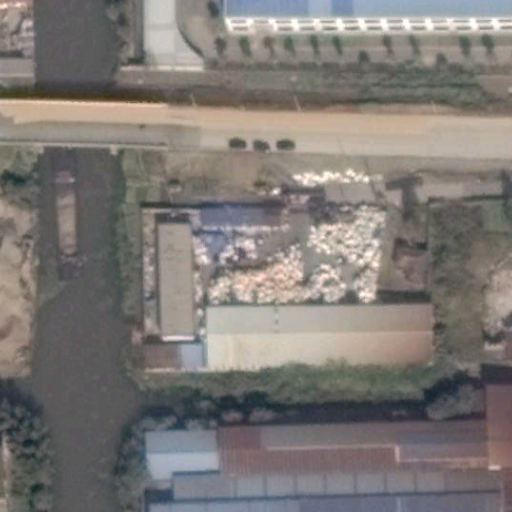msw: (197, 205, 384, 304)
